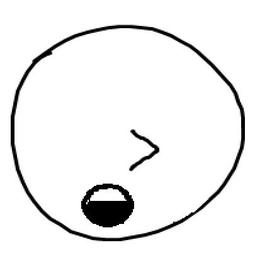open_mouth: (80, 180, 136, 230)
pointy_nose: (114, 117, 168, 176)
